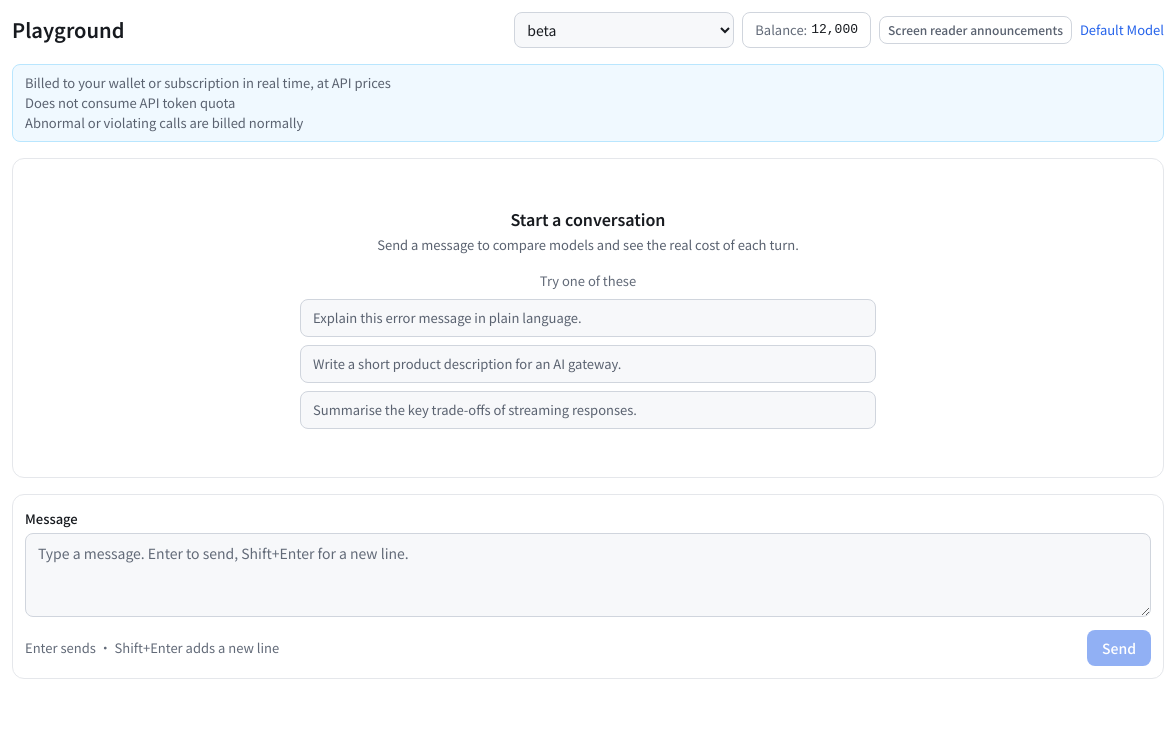
it: PlaygroundPage › replays once through the shared CSRF refresh on 403 csrf_failed
Check: the dropdown named "Select a model" is shown, box top-left (514, 12), bottom-right (734, 48)
Type "hi" into the text box labelled "Message" at (588, 575), box top-left (25, 533), bottom-right (1151, 617)
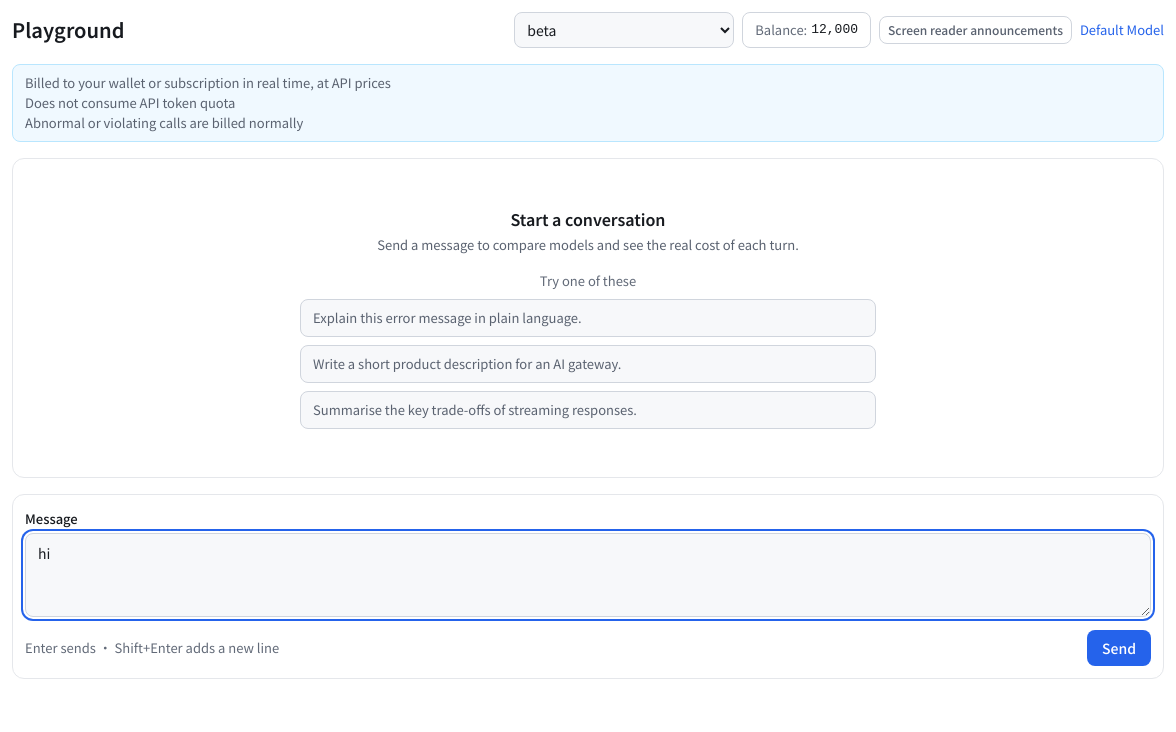
Click the button "Send" at (1119, 648), box top-left (1087, 630), bottom-right (1151, 666)
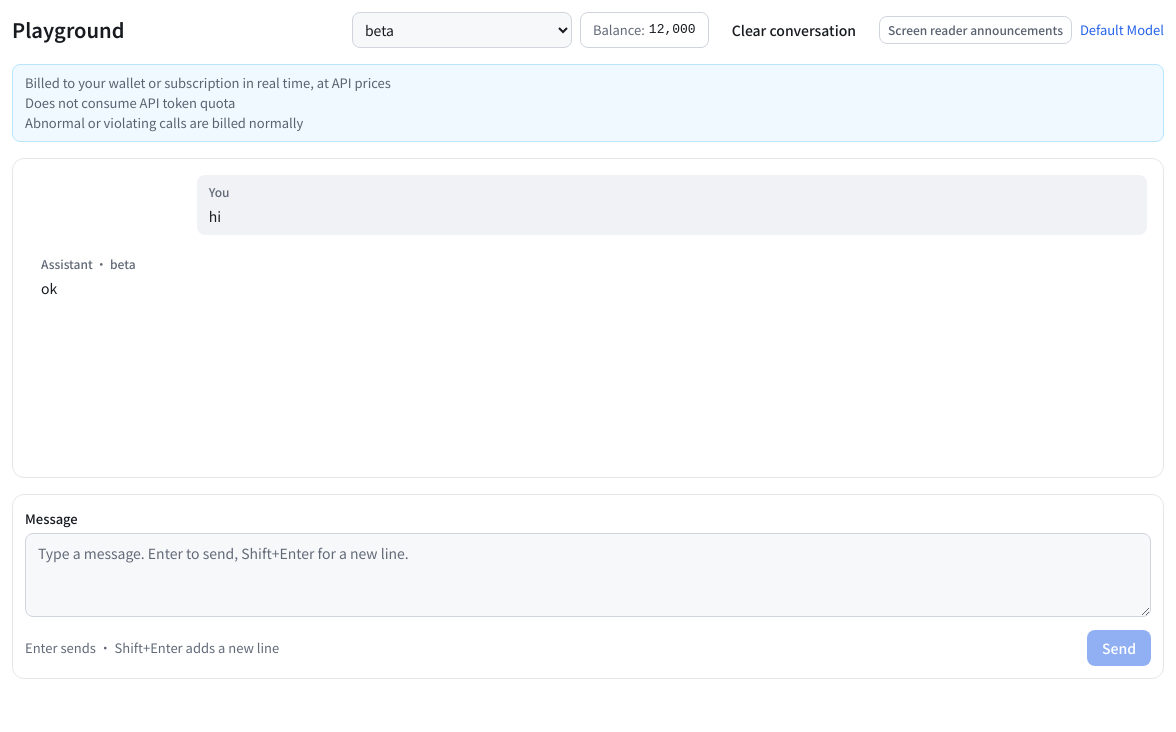
Check: the text "ok" is shown, box top-left (41, 278), bottom-right (57, 298)
